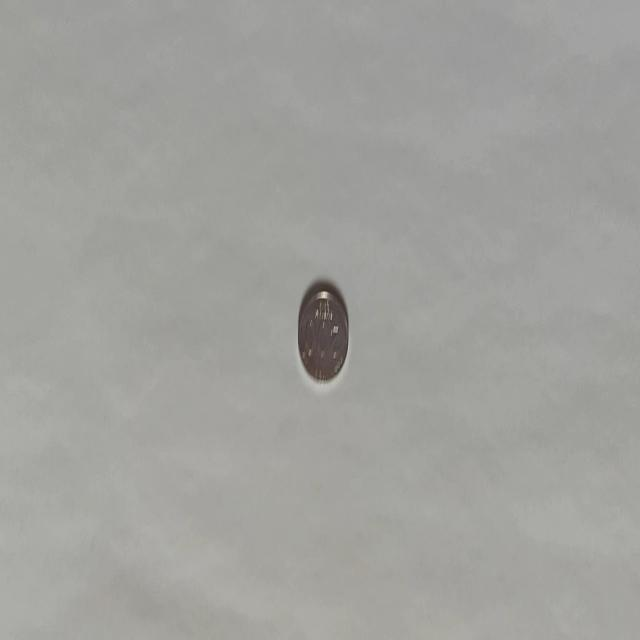dua ratus rupiah: (296, 281, 349, 385)
